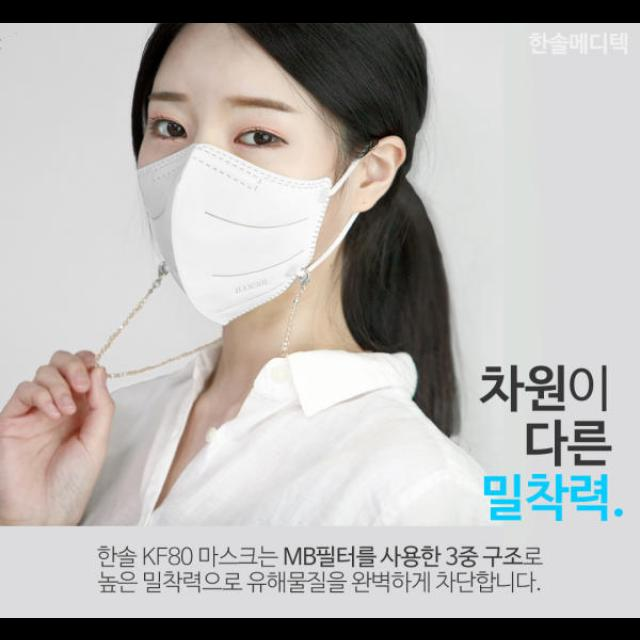masks: (132, 138, 378, 338)
